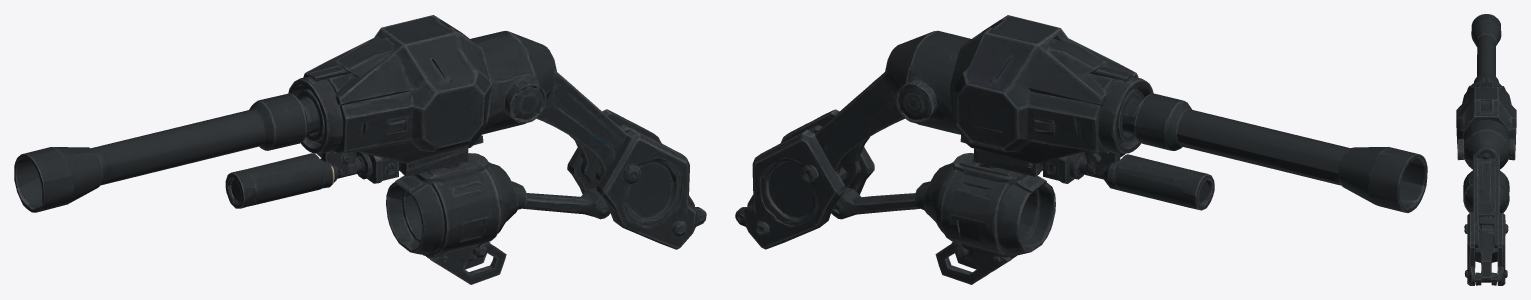
Rendered from mx_part_weapon.glb.
The picture shows the model from 3 angles, left to right: view 1: azimuth 30°, elevation 25°; view 2: azimuth 150°, elevation 25°; view 3: azimuth 270°, elevation 25°; orthographic projection. The views are drawn at different scales.
Bounding box in the file's own units: 1.9 × 0.7285 × 0.3008.
1 material, 1 textured.
